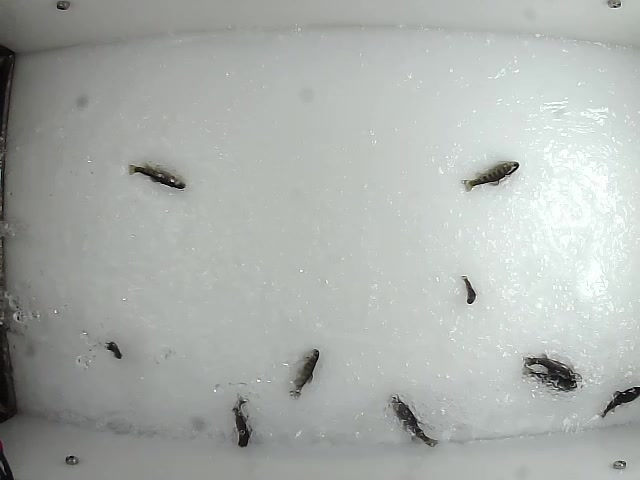fish: (389, 395, 441, 448), (459, 158, 519, 195), (523, 351, 579, 390), (289, 343, 322, 400), (125, 161, 187, 191), (520, 364, 579, 393), (232, 392, 252, 449), (460, 274, 476, 306), (103, 340, 124, 364)
